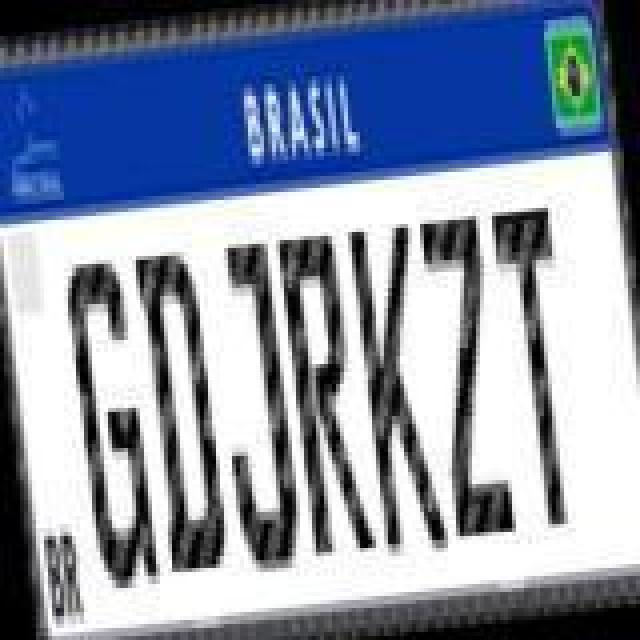D: (134, 250, 234, 582)
G: (60, 256, 164, 592)
J: (204, 236, 308, 580)
K: (348, 214, 452, 554)
R: (276, 224, 380, 560)
T: (490, 200, 590, 536)
Z: (418, 210, 518, 542)
